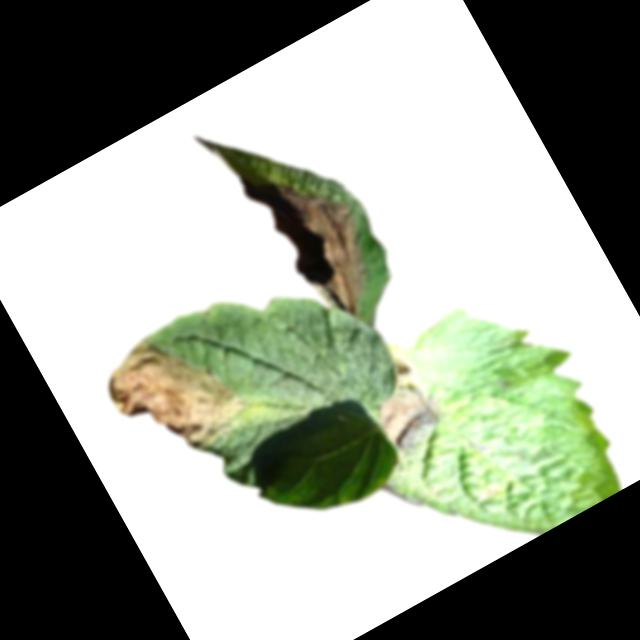Late_blight: (90, 307, 256, 476), (273, 161, 394, 321), (367, 374, 453, 458), (381, 351, 417, 389)
